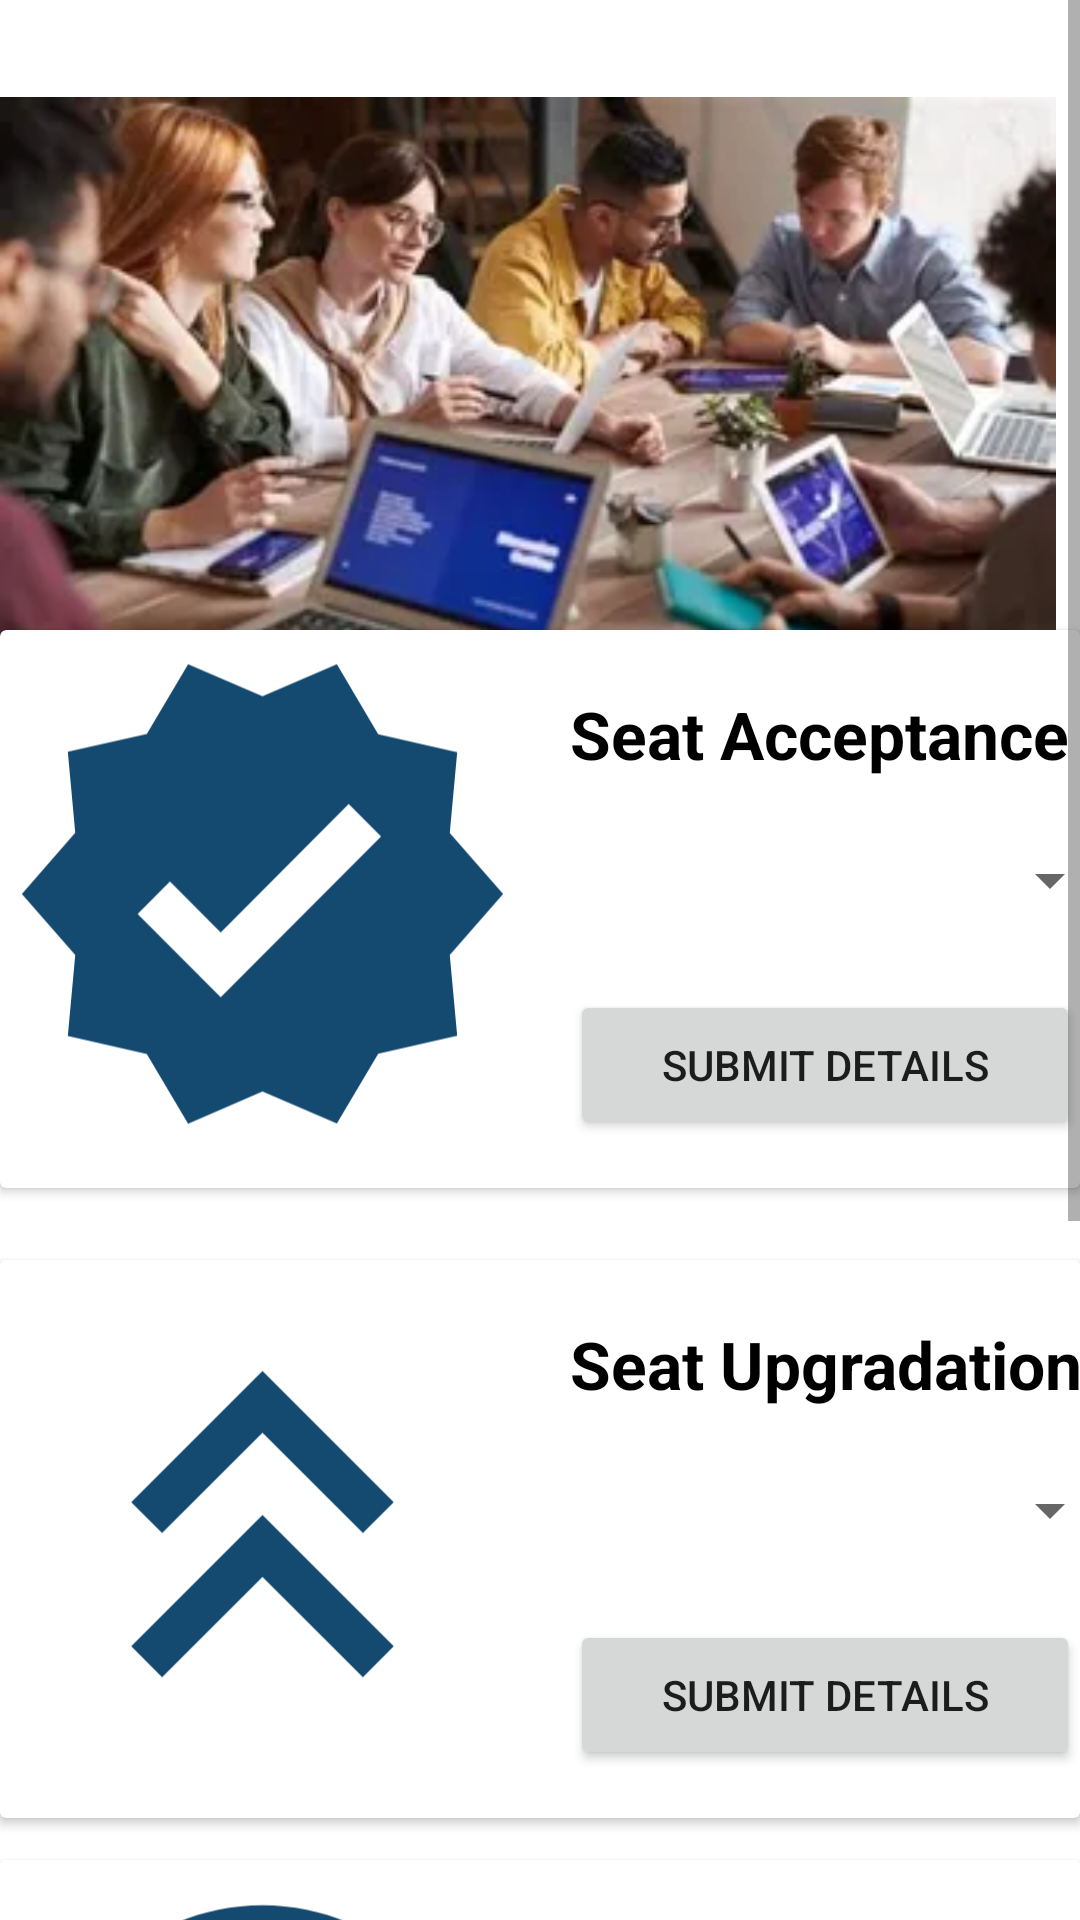

Point at icon controls on the screen. Image size 1080 × 1920, points as point (x, y).
keyboard double arrow up: point (262, 1524)
